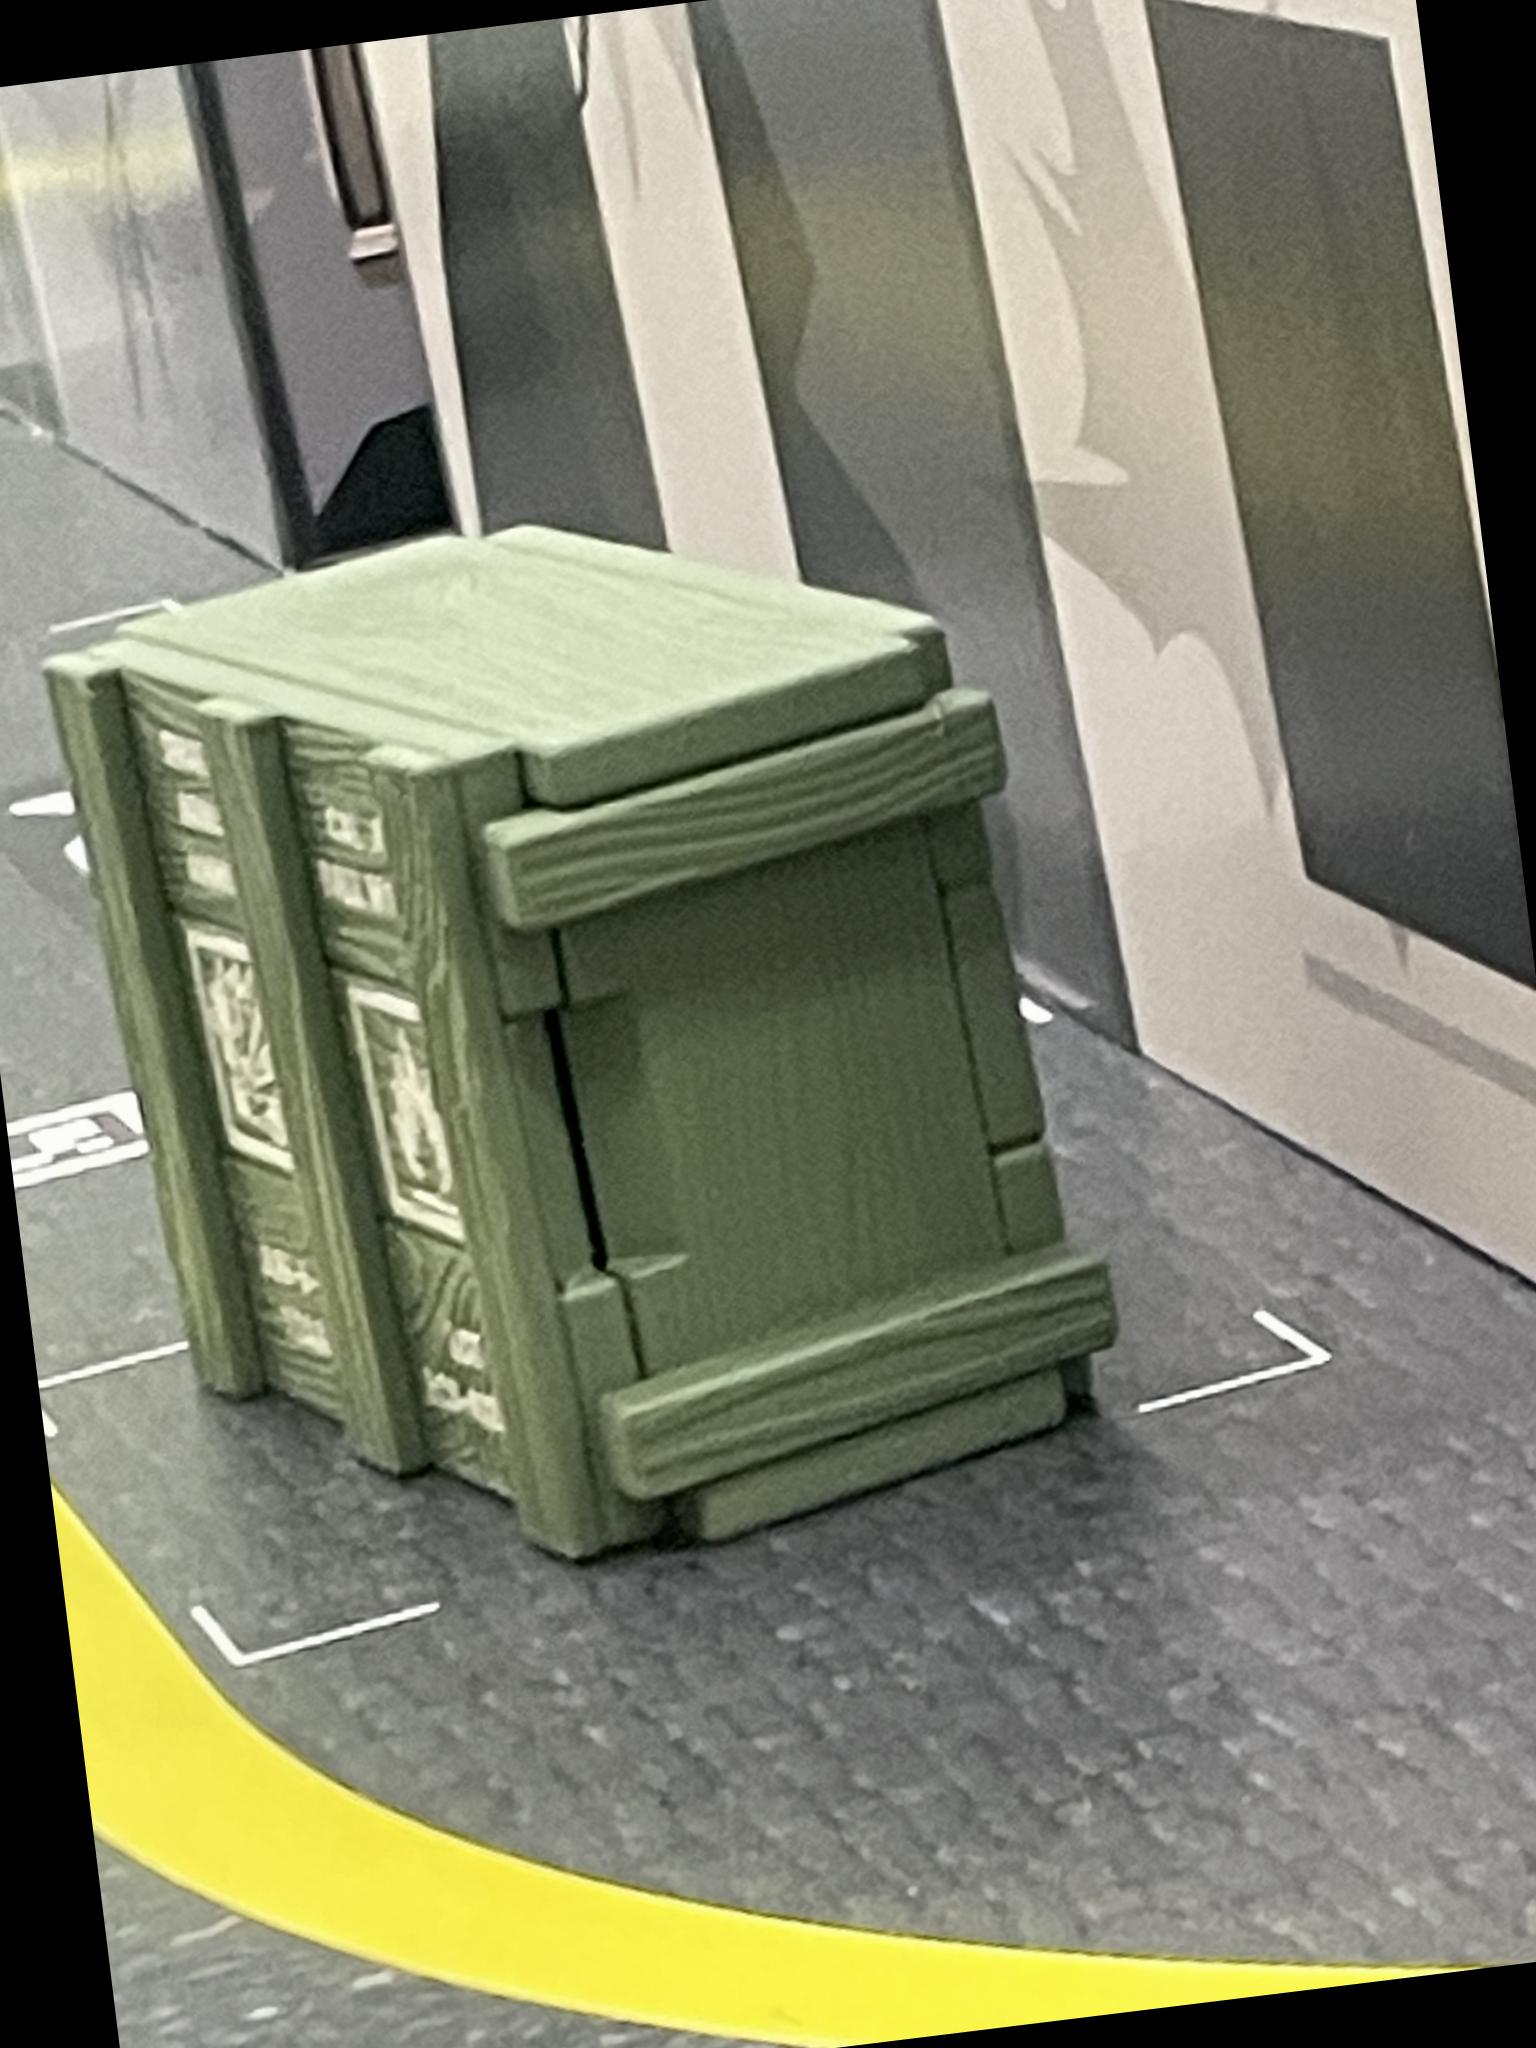Box: (24, 443, 1160, 1642)
